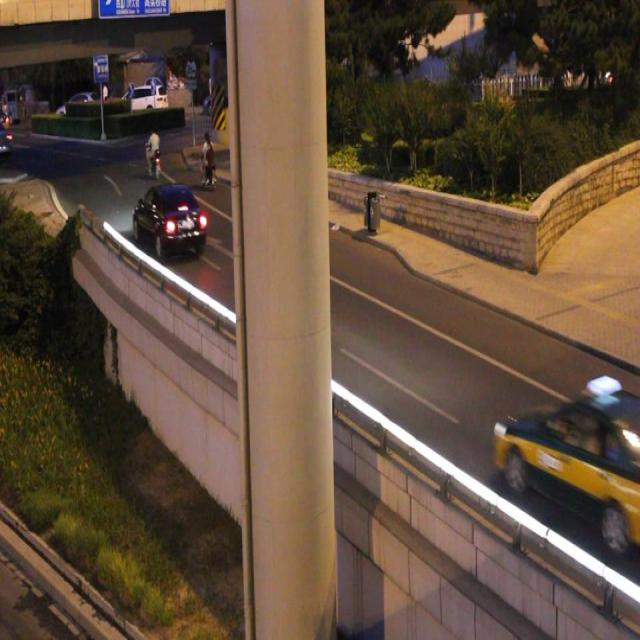car: (494, 393, 640, 534), (134, 183, 205, 252)
